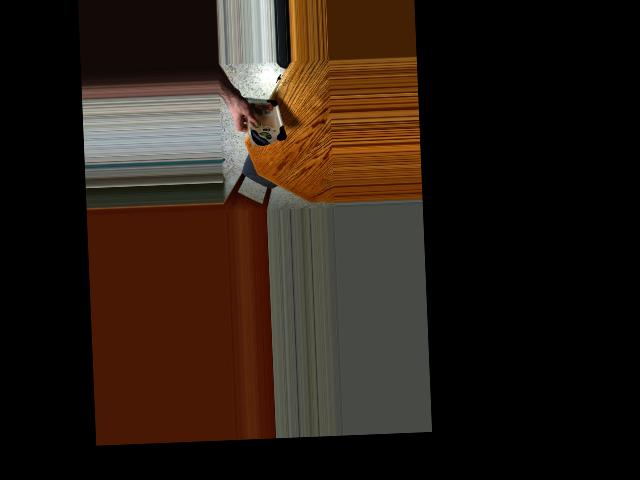cheese: (242, 88, 283, 148)
